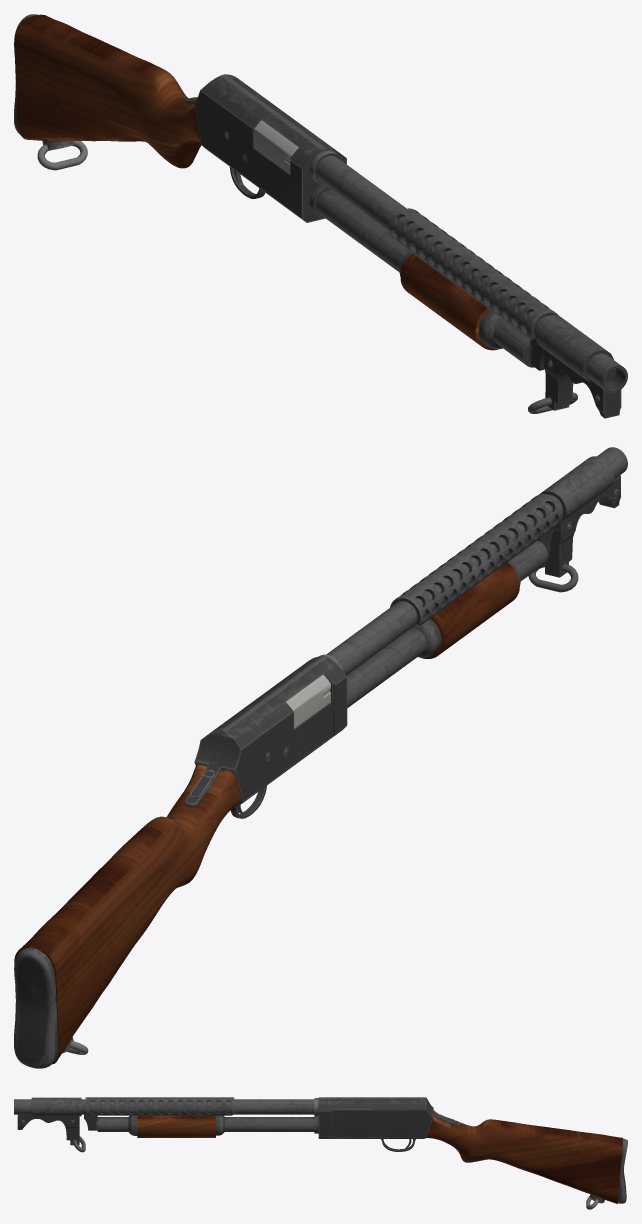
File: shortgun.glb
3 renders of one model, top to bottom at view 1: azimuth 30°, elevation 25°; view 2: azimuth 150°, elevation 25°; view 3: azimuth 270°, elevation 25°, orthographic. The views are drawn at different scales.
Visible parts, largest first — view 1: g; view 2: g; view 3: g.
Boxes of the visible parts, x1,y1,x2,y2 form: g: [14, 14, 627, 418]; g: [14, 447, 627, 1068]; g: [14, 1097, 627, 1209].
Bounding box in the file's own units: 0.0943 × 0.39 × 2.
Materials: 1 (1 with a texture image).
